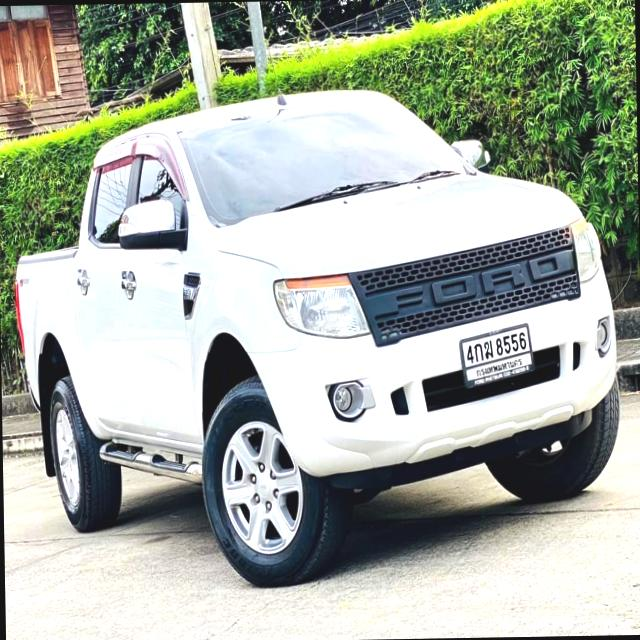license_plate: (458, 320, 536, 389)
